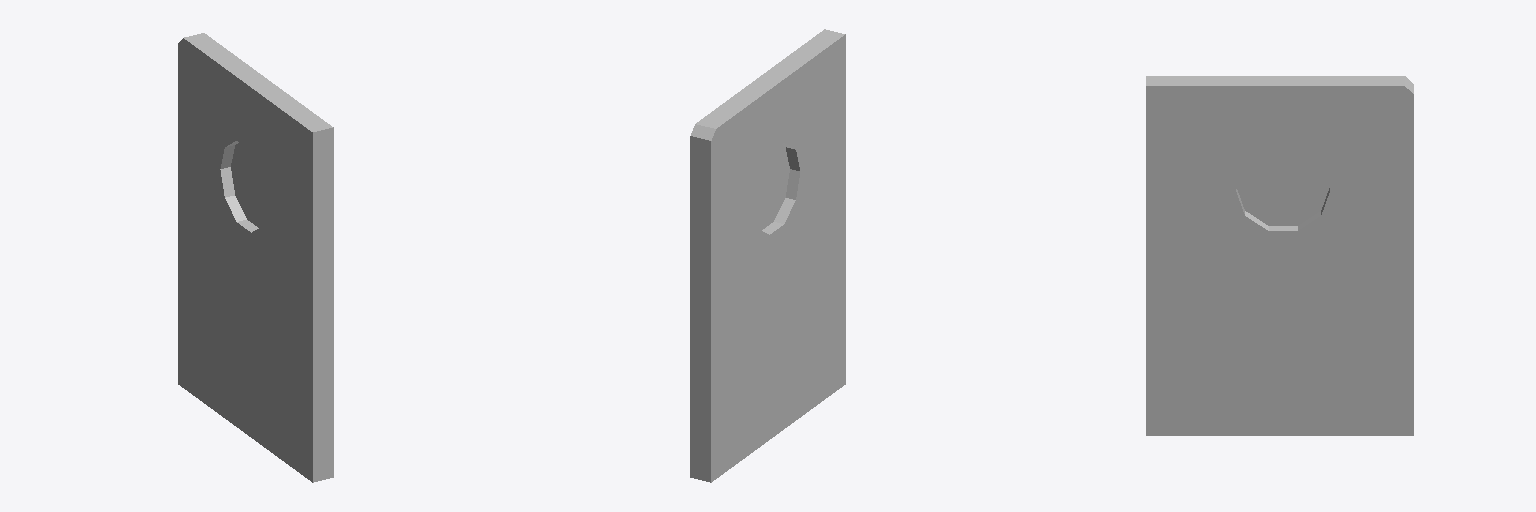
File: sliding_door-01-door.obj
3 renders of one model, left to right at view 1: azimuth 30°, elevation 25°; view 2: azimuth 150°, elevation 25°; view 3: azimuth 270°, elevation 25°, orthographic.
Parts seen in each view (by area): view 1: Plane, Plane.001_Plane.003; view 2: Plane, Plane.001_Plane.003; view 3: Plane, Plane.001_Plane.003.
Boxes of the visible parts, x1=… form: Plane: x1=178, y1=33, x2=333, y2=482; Plane.001_Plane.003: x1=231, y1=143, x2=267, y2=227; Plane: x1=690, y1=29, x2=845, y2=482; Plane.001_Plane.003: x1=753, y1=145, x2=789, y2=229; Plane: x1=1146, y1=76, x2=1413, y2=435; Plane.001_Plane.003: x1=1237, y1=150, x2=1328, y2=225.
Size of the model in its own units: 0.2375 by 3.8 by 2.64.